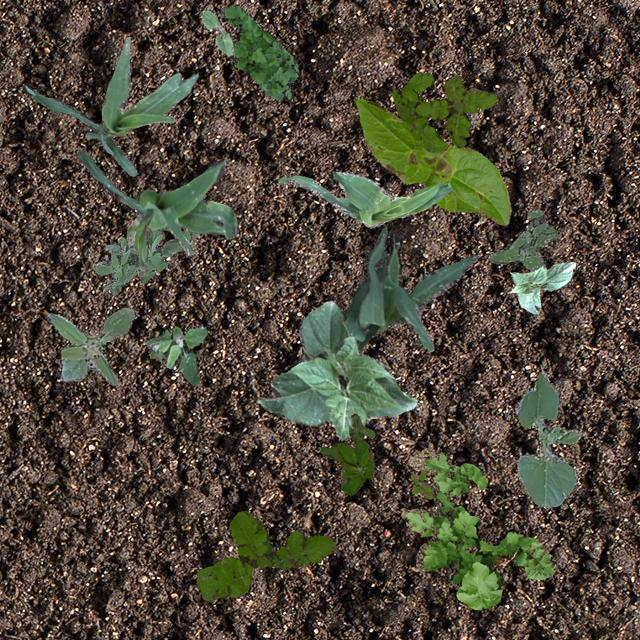crop: (21, 36, 198, 174), (256, 300, 417, 440), (354, 96, 510, 225), (76, 150, 238, 270), (342, 226, 478, 352), (276, 170, 452, 227), (514, 366, 580, 506), (508, 260, 574, 314), (200, 10, 233, 54)
weed: (400, 446, 556, 608), (196, 510, 336, 600), (391, 70, 496, 152), (220, 4, 298, 100), (90, 230, 198, 294), (46, 306, 132, 384), (318, 412, 374, 494), (488, 207, 558, 270), (144, 324, 206, 384), (410, 470, 432, 498)
